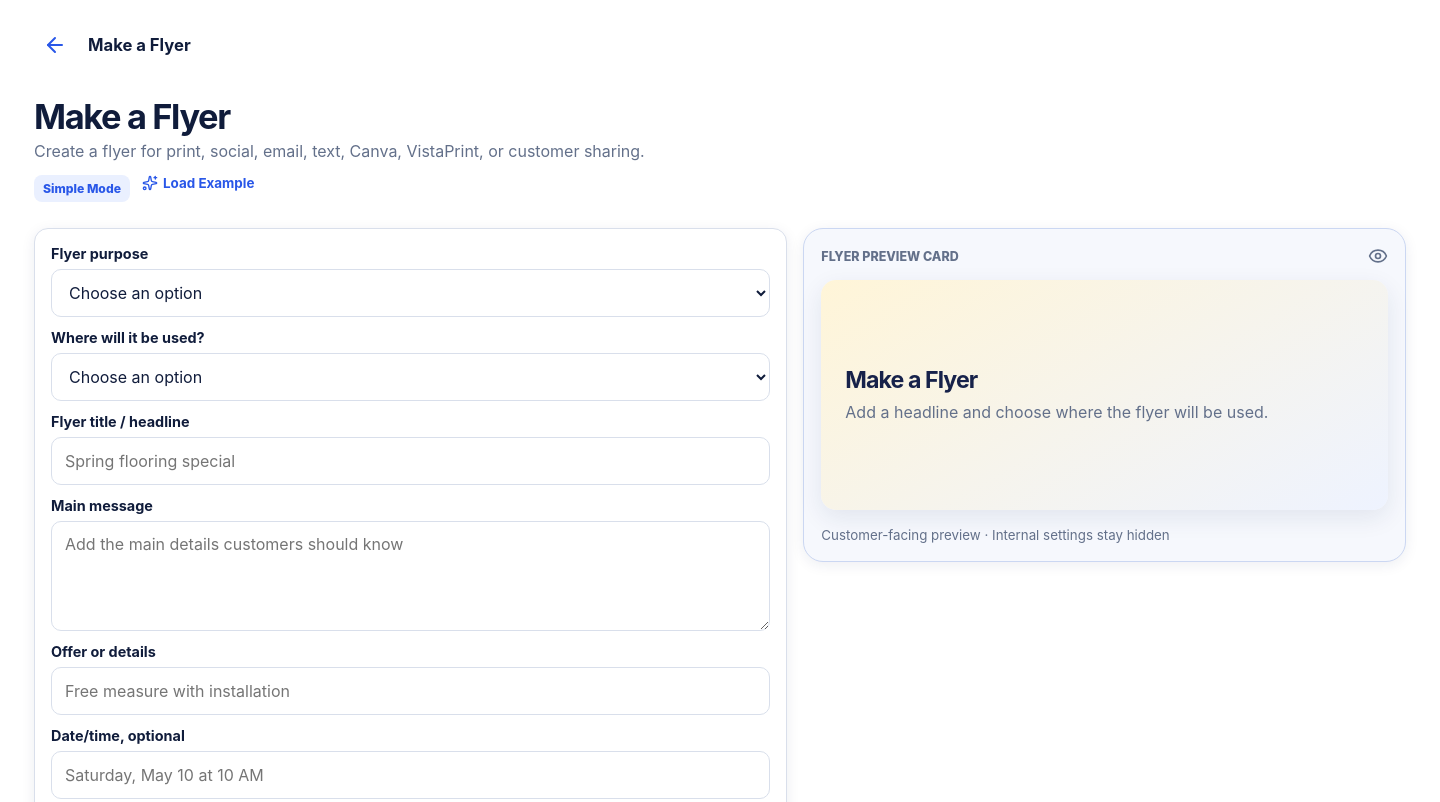
Phase 2/3 cleanup builder examples › opens new workshop builders blank until Load Example is selected
Expected: the field labelled "Flyer title / headline" is empty, [51,437,770,485]
Click the button "Load Example".
click(198, 182)  # box [142,170,254,194]
(page scrolled)
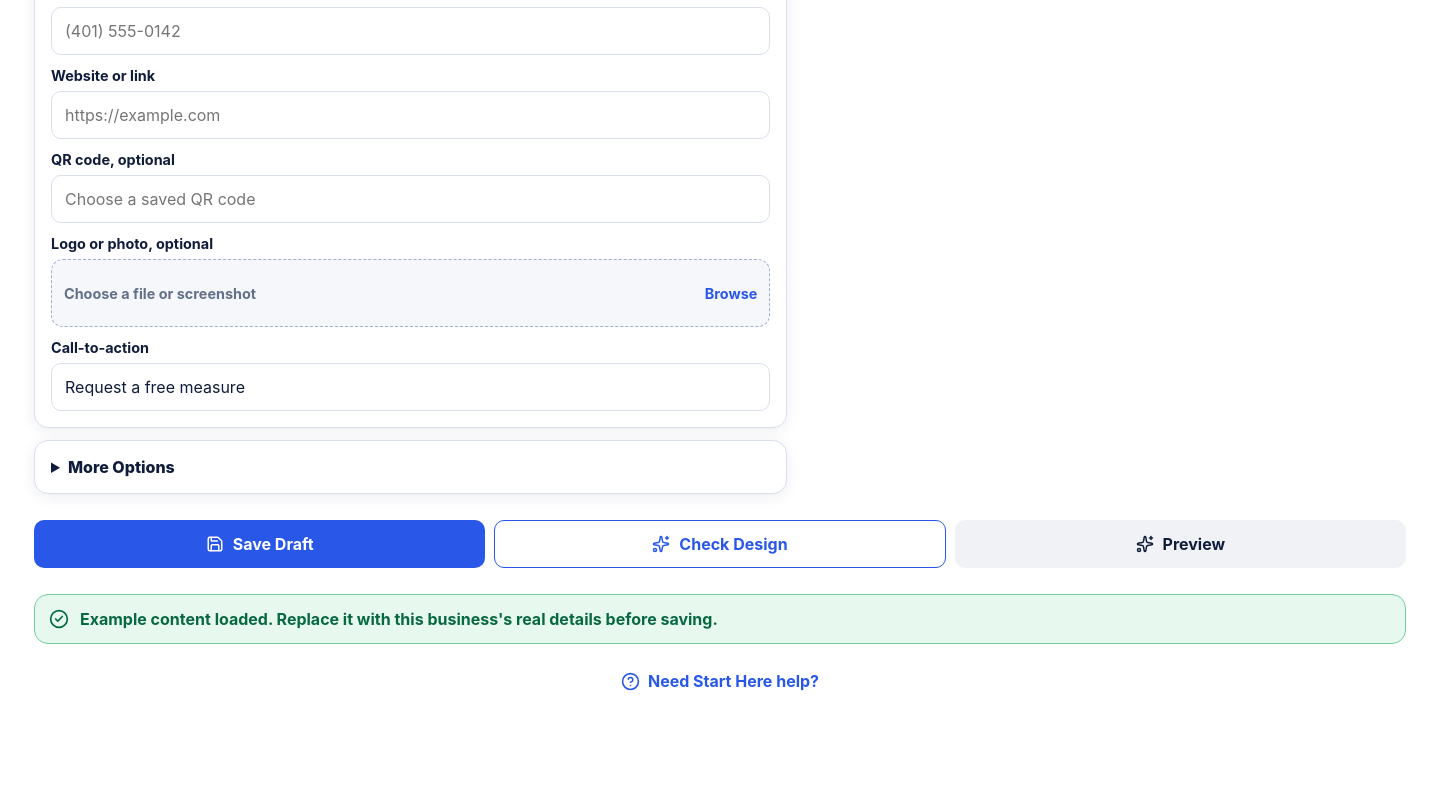
Expected: the text "Example content loaded" shows "Replace it", [80,609,718,629]
